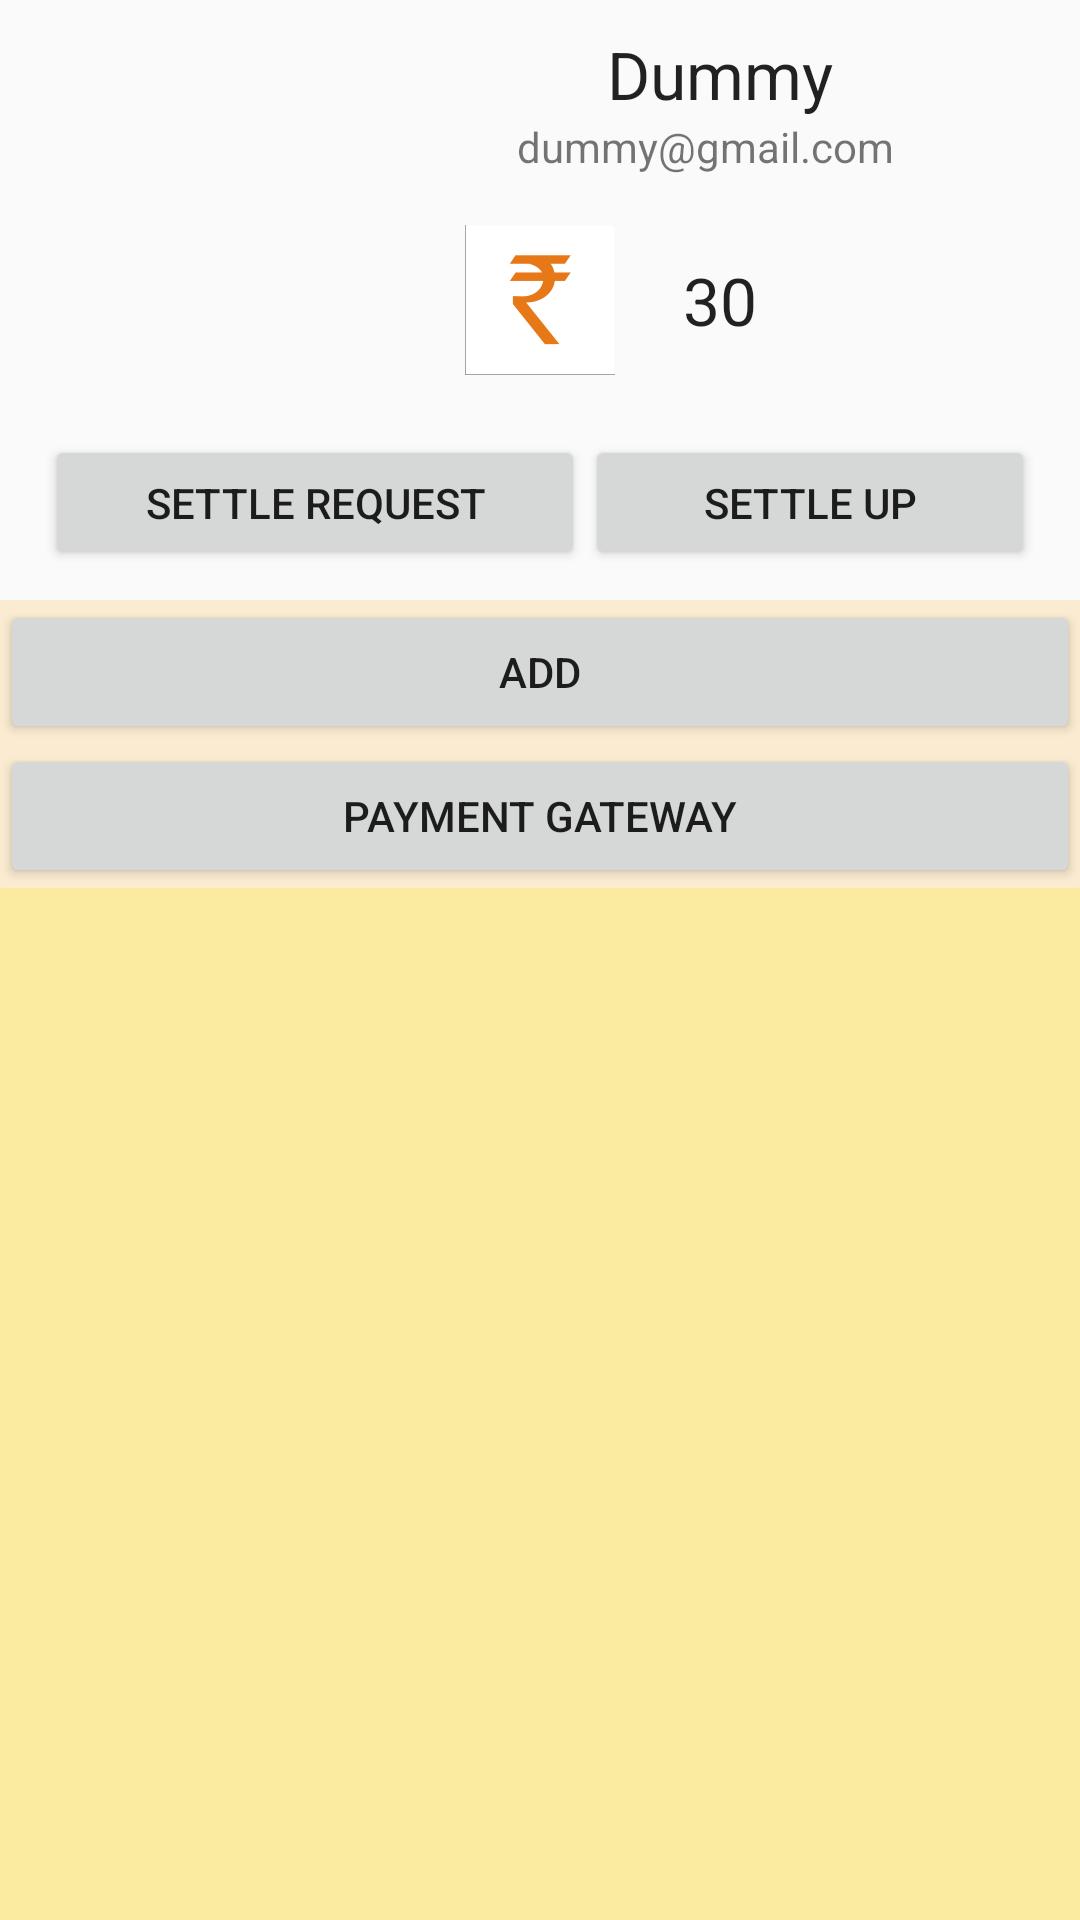

Icons on this 1080px×1920px Android screen, each with the point to tap as (x=x, y=y):
rupeeimg: (x=540, y=300)
